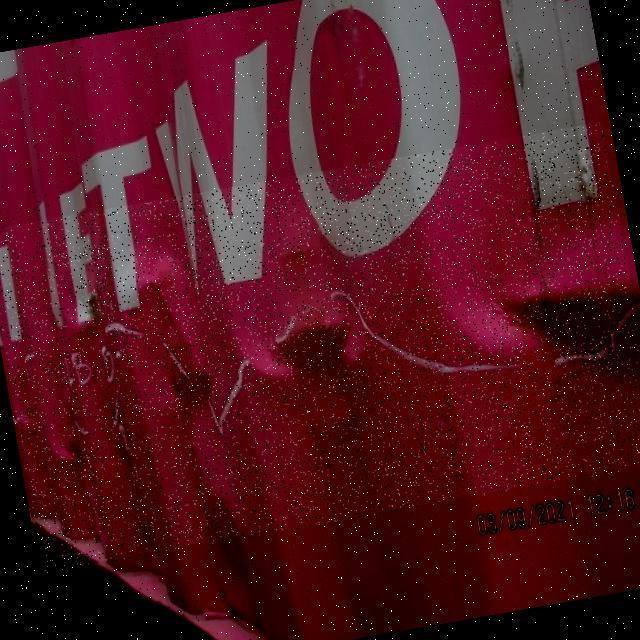dent: (1, 122, 640, 574)
